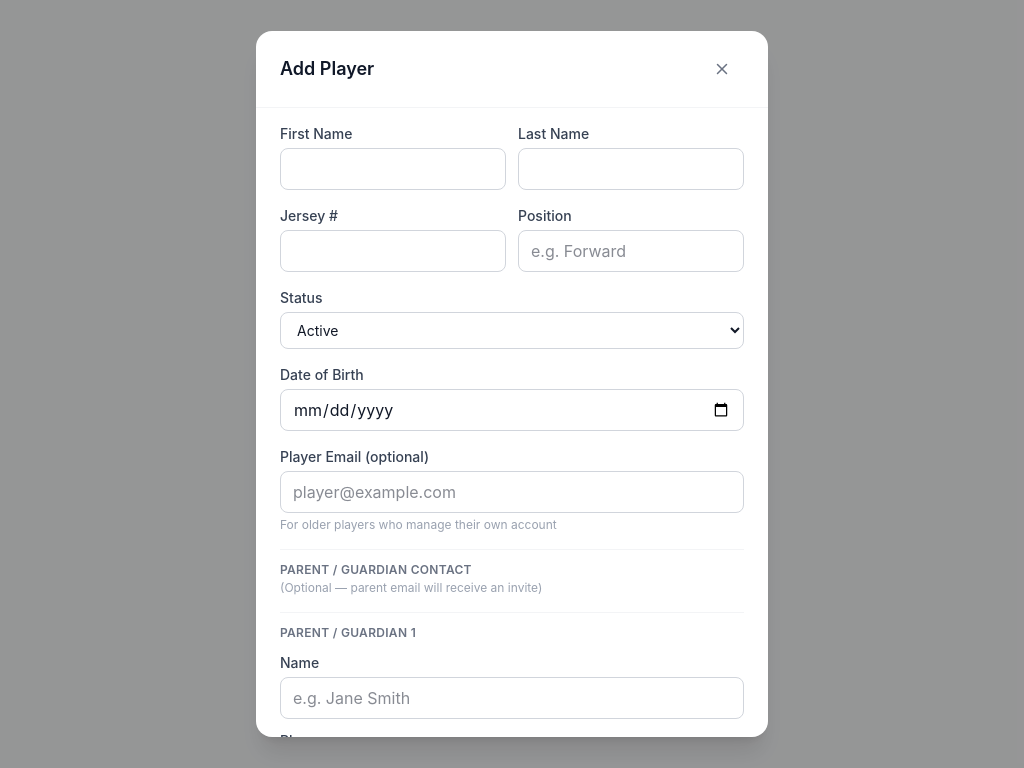
Test: PlayerForm — player email format validation › shows validation error and blocks save when player email format is invalid
This screenshot has width=1024, height=768.
Type "Jordan" into the field labelled "First Name". click: (393, 169)
box: [280,148,506,190]
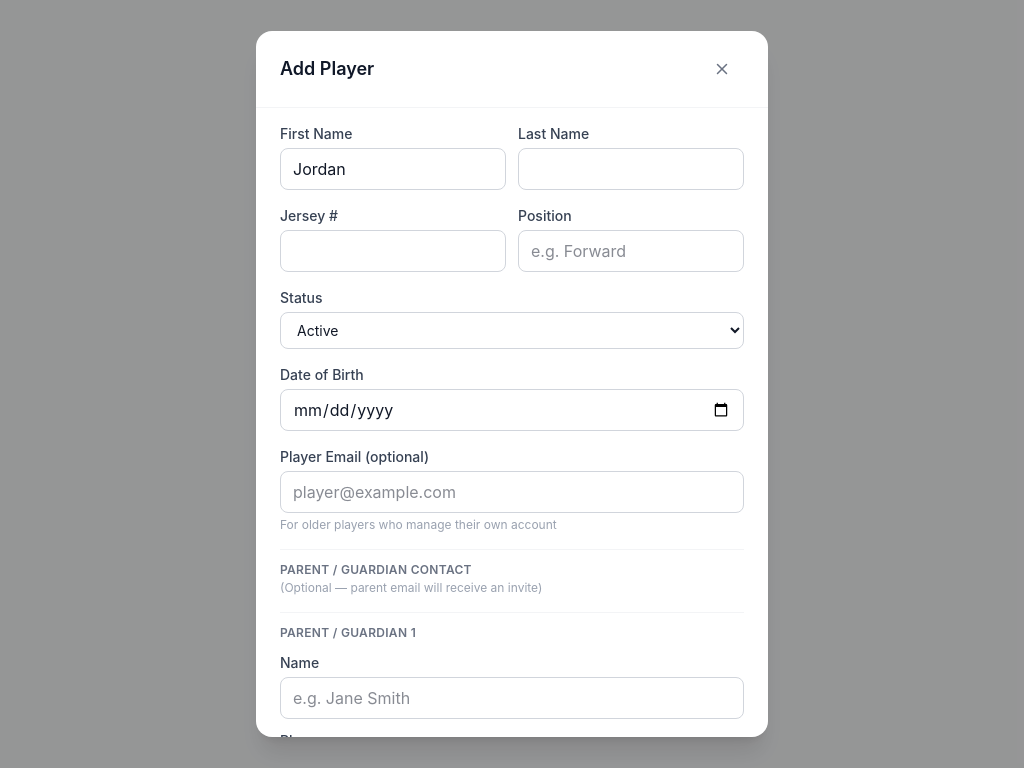
Type "Lee" into the field labelled "Last Name". click: (631, 169)
box: [518,148,744,190]
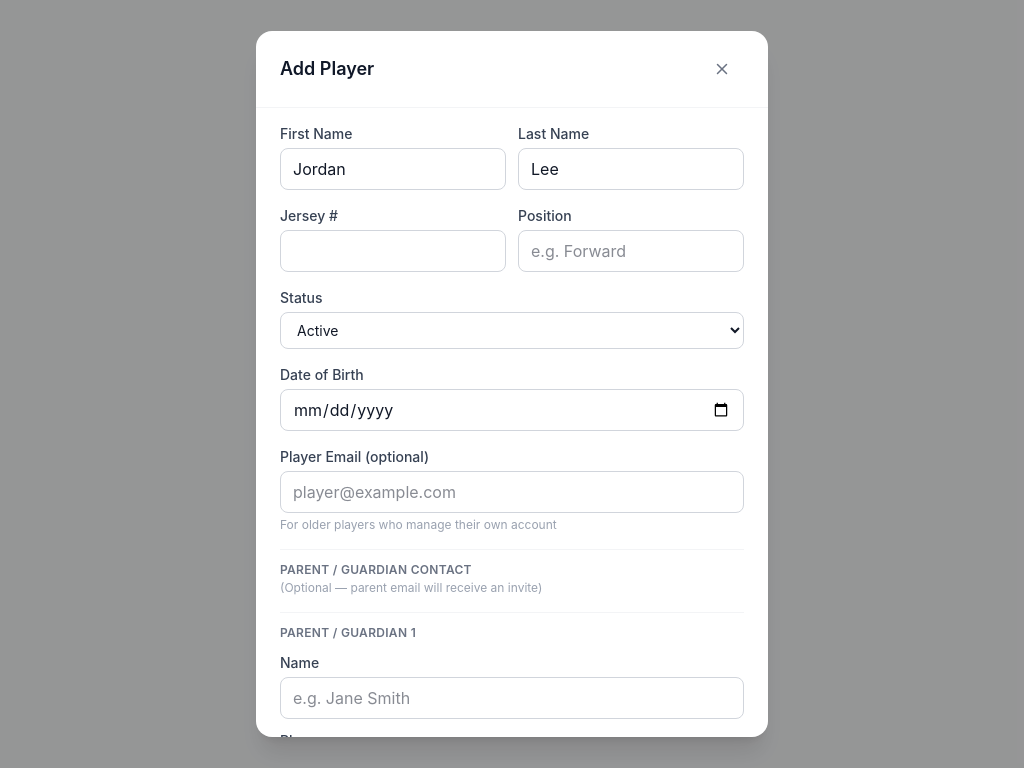
Type "not-an-email" into the field labelled "Player Email (optional)". click: (512, 492)
box: [280,471,744,513]
(page scrolled)
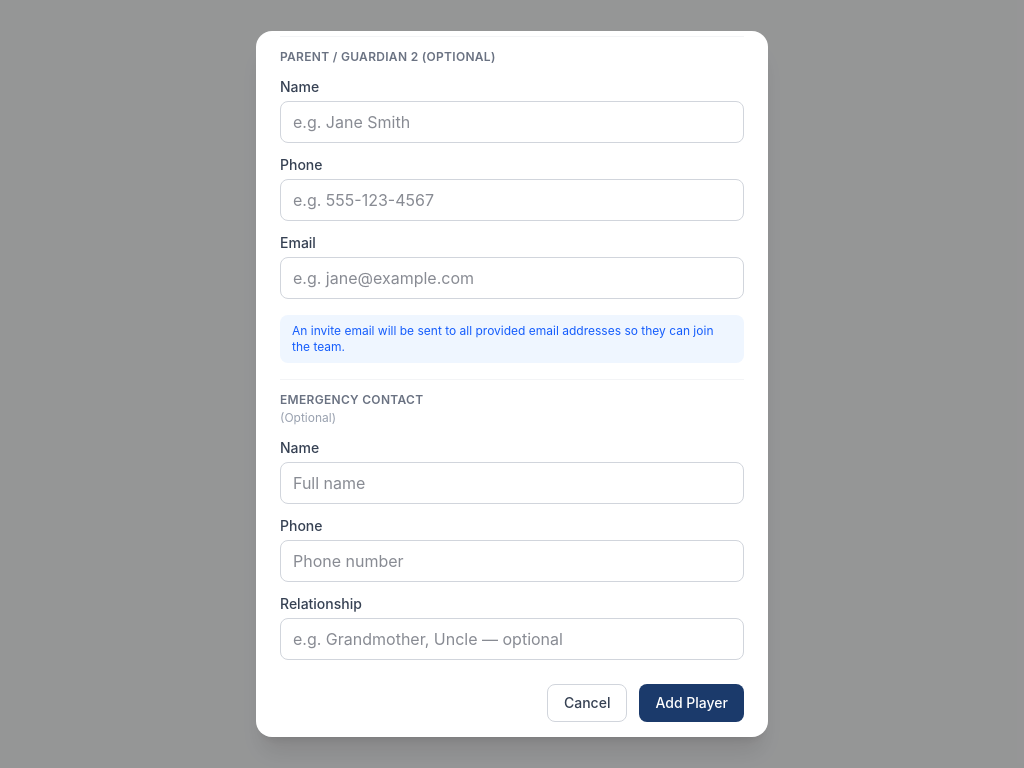
Click the button "Add Player". click: (692, 703)
box: [640,684,744,722]
(page scrolled)
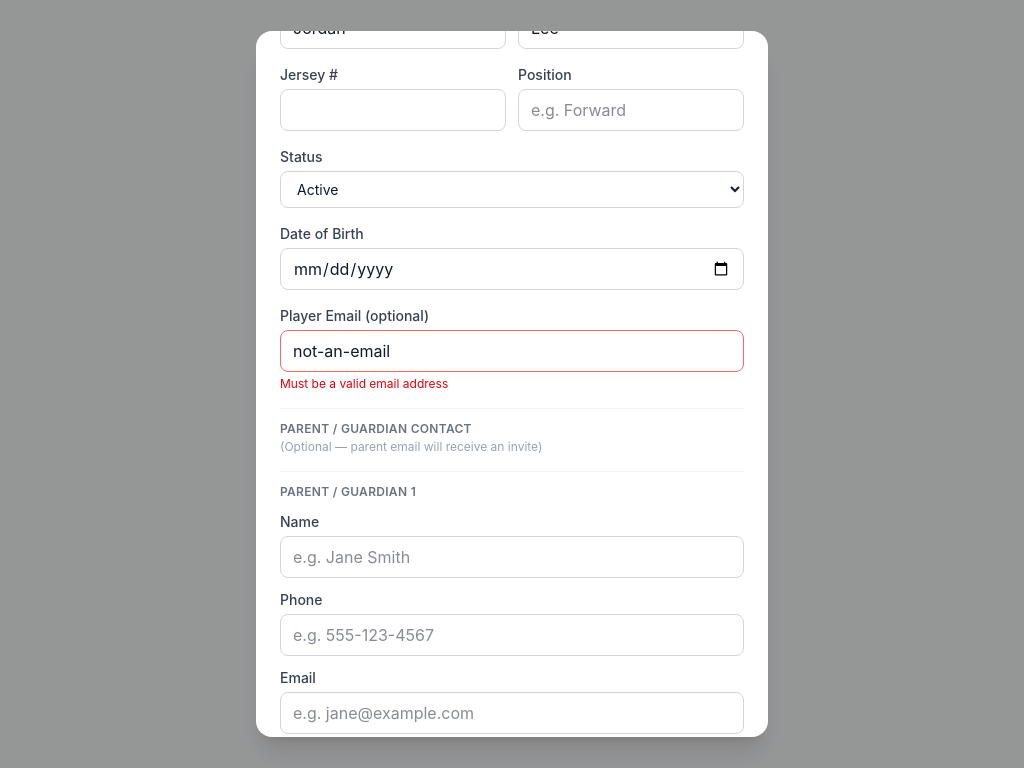
expect the text "Must be a valid email address" is shown: met, box [280,376,448,391]
